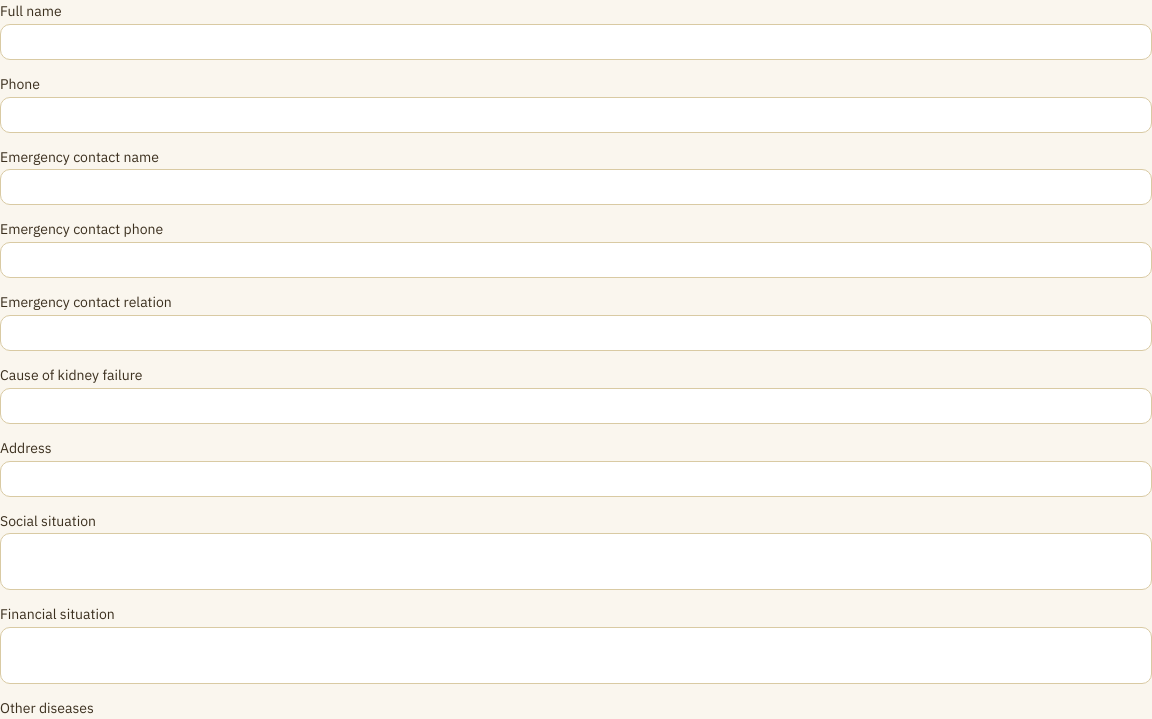
Test: PatientForm › shows the translated message for a taken username
This screenshot has width=1152, height=719.
Type "Layla Aziz" into the field labelled "Full name" at (576, 42), box [0,24,1151,60]
(page scrolled)
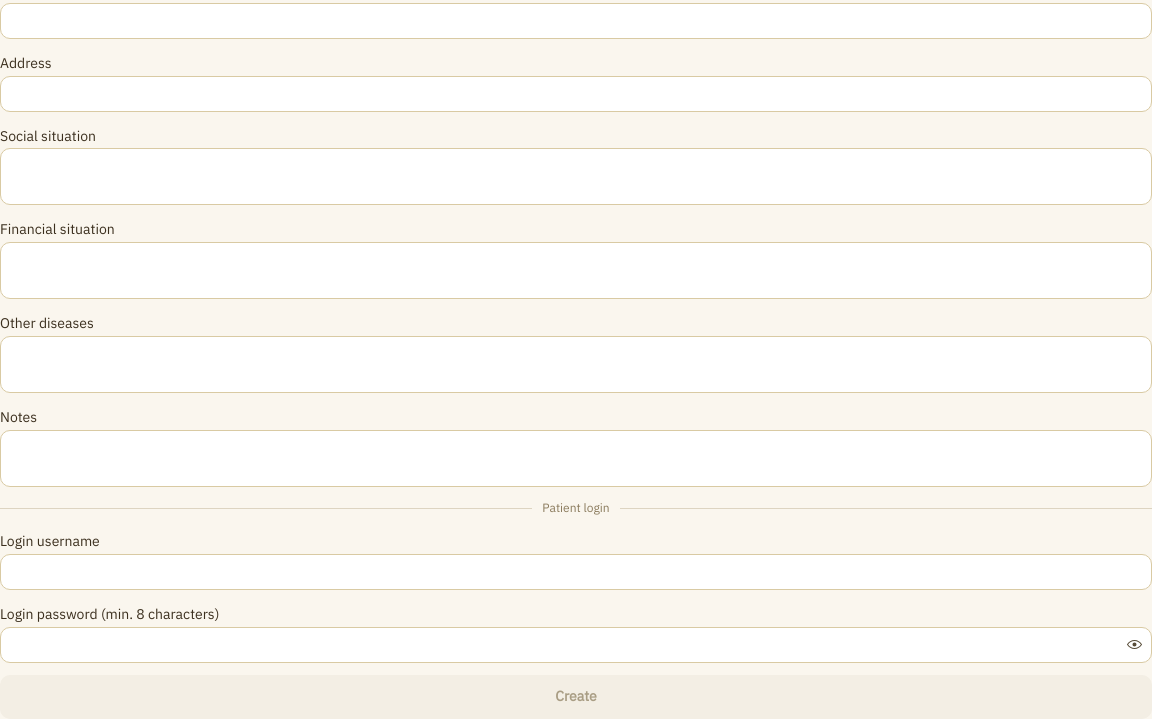
Type "layla" into the field labelled "Login username" at (576, 572), box [0,554,1151,590]
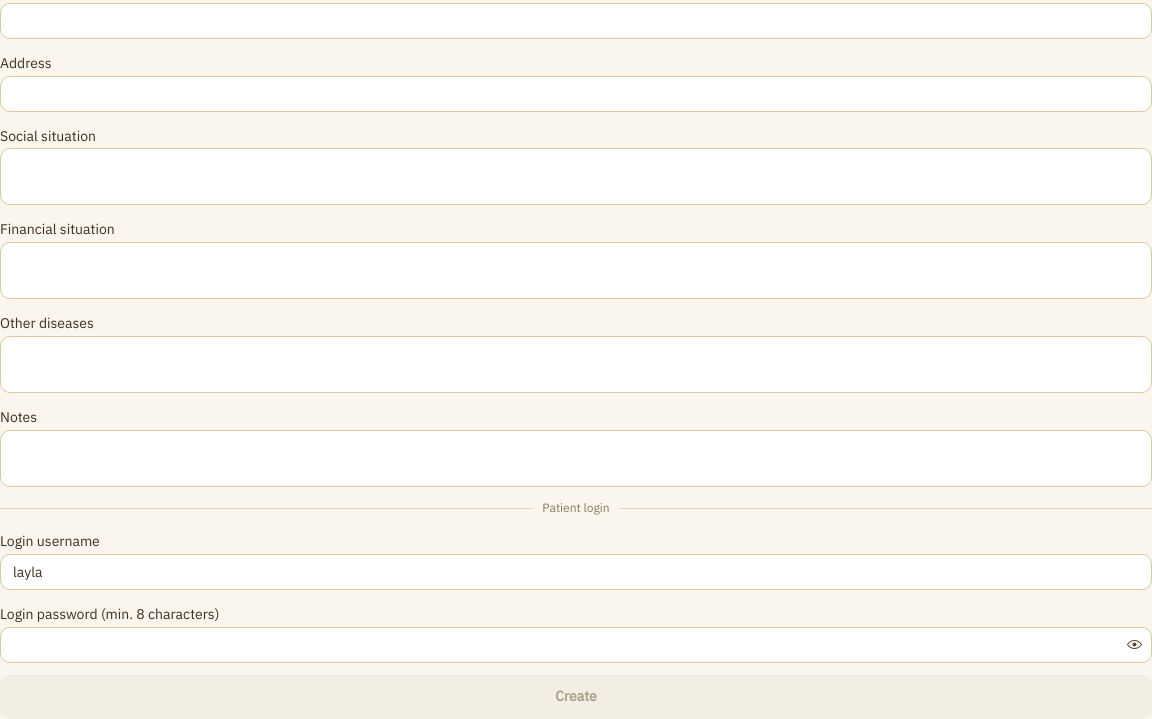
Type "password1" into the password field labelled "Login password (min. 8 characters)" at (576, 645), box [1,628,1151,662]
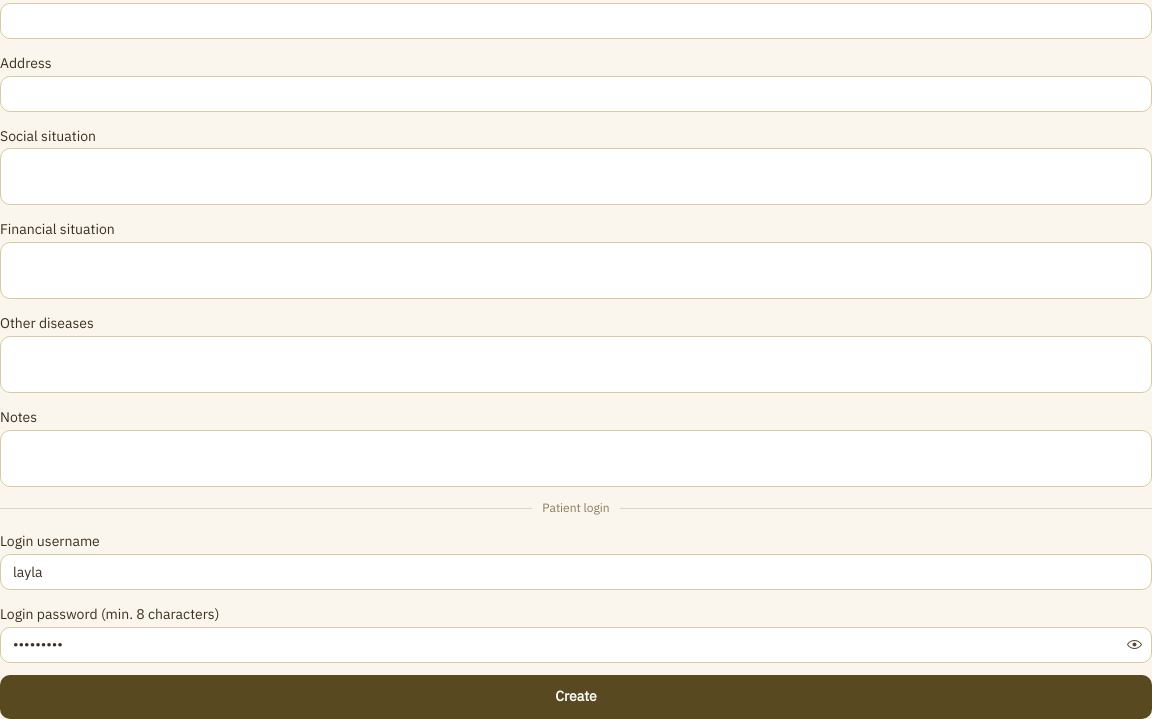
Click the button "Create" at (576, 697), box [0,675,1151,718]
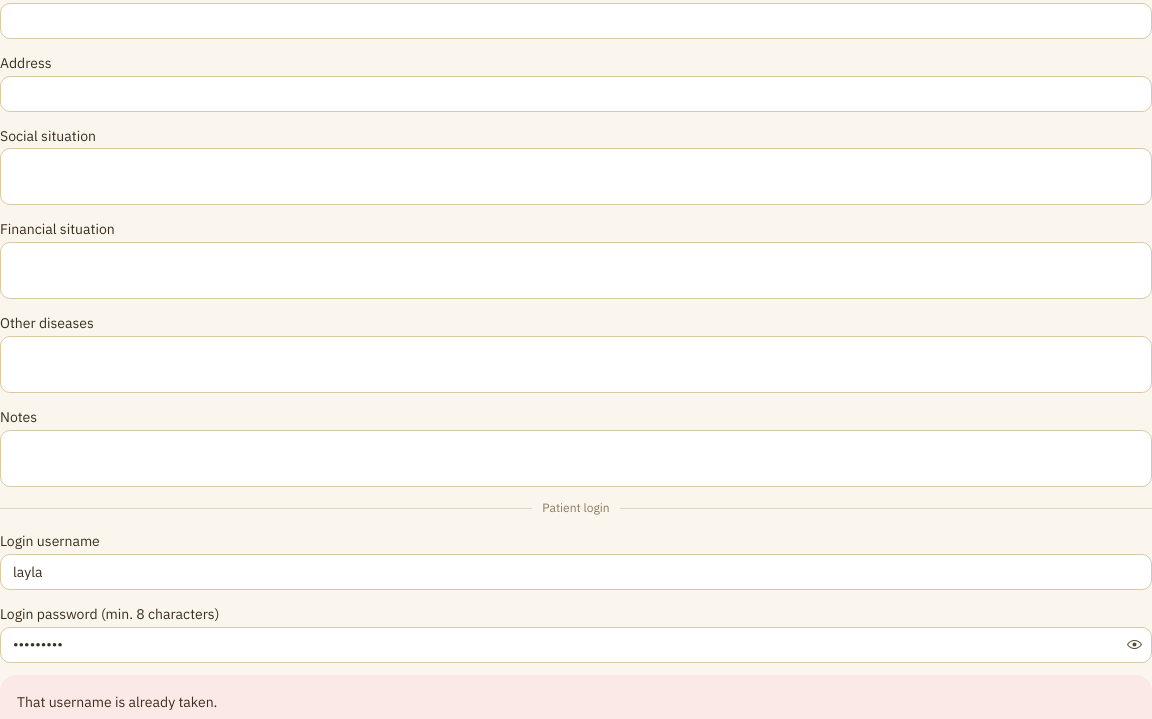
Result: the text "That username is already taken." is shown at [17,692,217,713]
